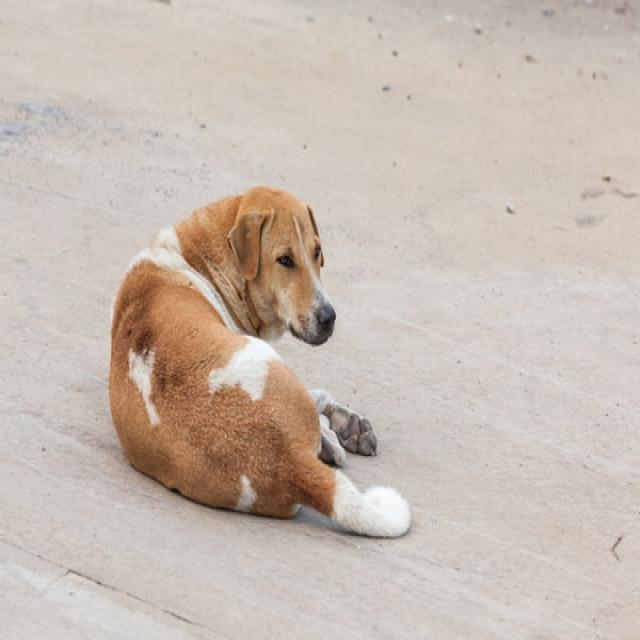laying down: (106, 184, 412, 541)
